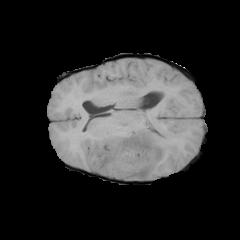glioma: (94, 124, 177, 180)
